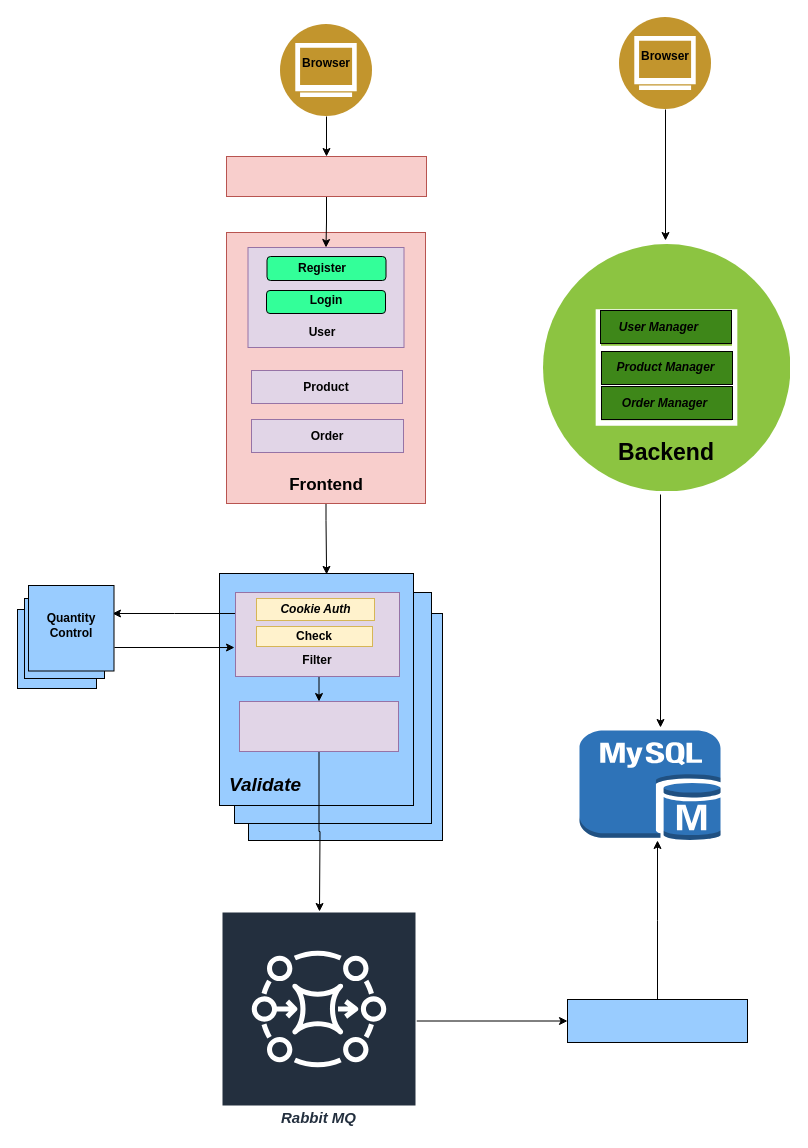
This 808x1148 diagram has some shape labels left out. Each missing label, with the box of its shape:
RabbitMQ Consumer: (566, 998, 748, 1042)
RabbitMQ Product: (238, 700, 398, 752)
Static Frontend: (226, 156, 426, 196)
